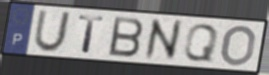B: (108, 15, 146, 59)
N: (143, 17, 183, 62)
O: (219, 24, 258, 67)
Q: (181, 23, 220, 63)
T: (77, 14, 107, 55)
U: (32, 9, 73, 54)
